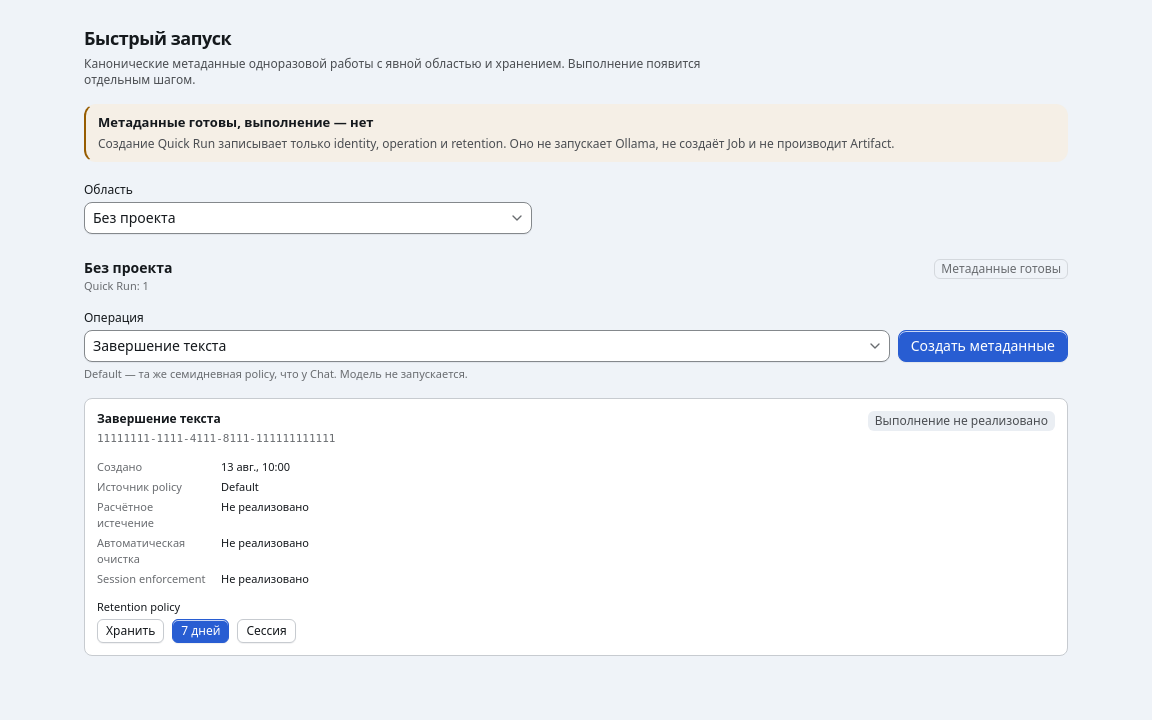
Test: QuickRunsPage › coalesces retention mutation, focuses failure and repeats the exact policy from its own mode button without Save
The width and height of the screenshot is (1152, 720).
Expected: the text "11111111-1111-4111-8111-111111111111" is shown, [97,430,335,446]
What coordinates should you click on to do the following:
click the button "Сессия"
I would click on:
 (267, 630)
Its box is [238,618,296,642].
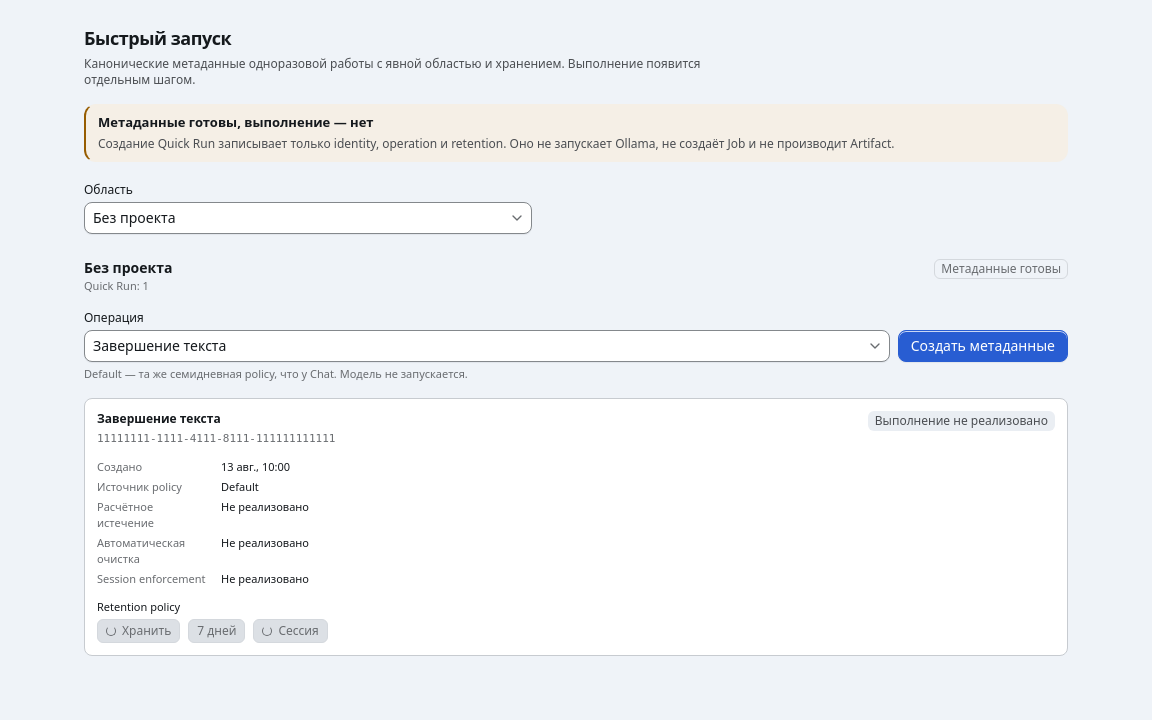
What coordinates should you click on to do the following:
click the button "Сессия"
I would click on:
 (291, 630)
Its box is [254,618,328,642].
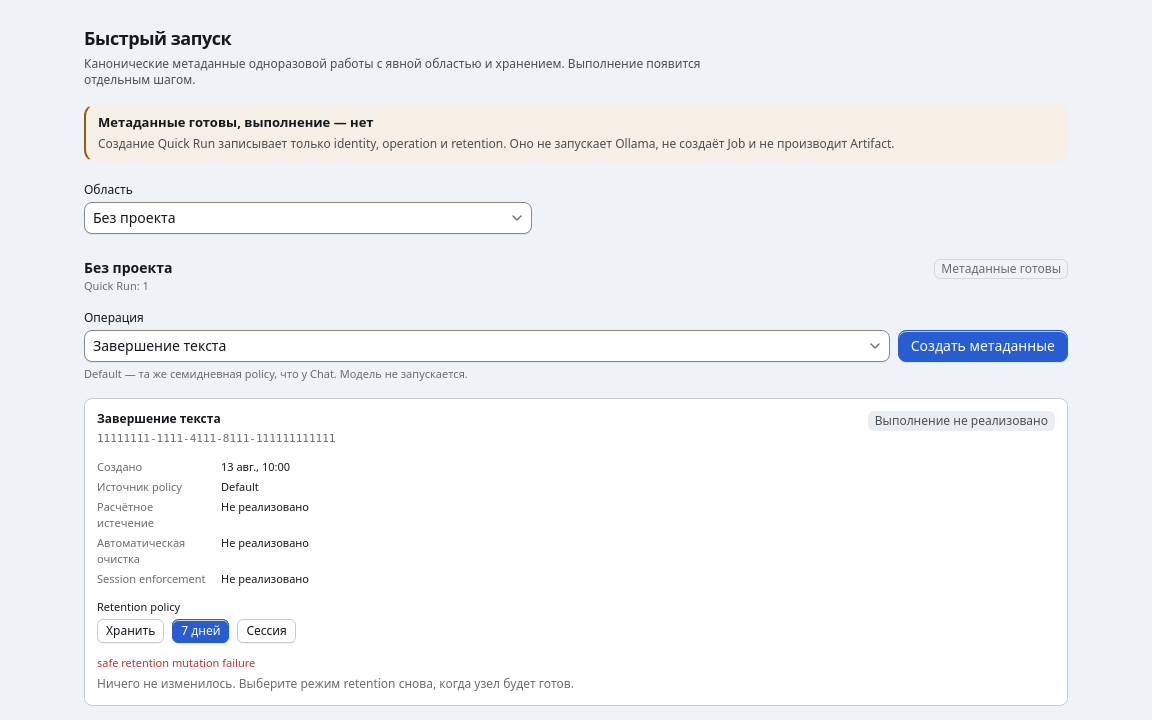
Expected: the message shows "safe retention mutation failure", [97,654,255,670]
What coordinates should you click on to do the following:
click the button "Сессия"
I would click on:
 (267, 630)
Its box is [238,618,296,642].
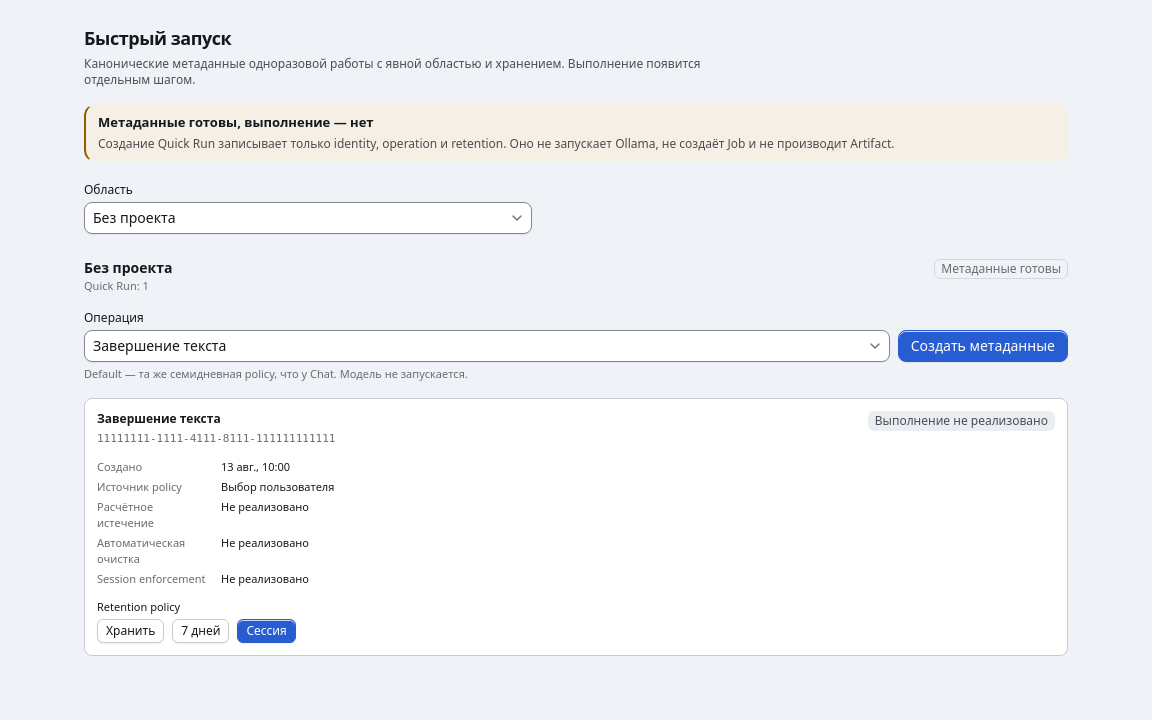
Expected: the text "Выбор пользователя" is shown, [221,478,334,494]
